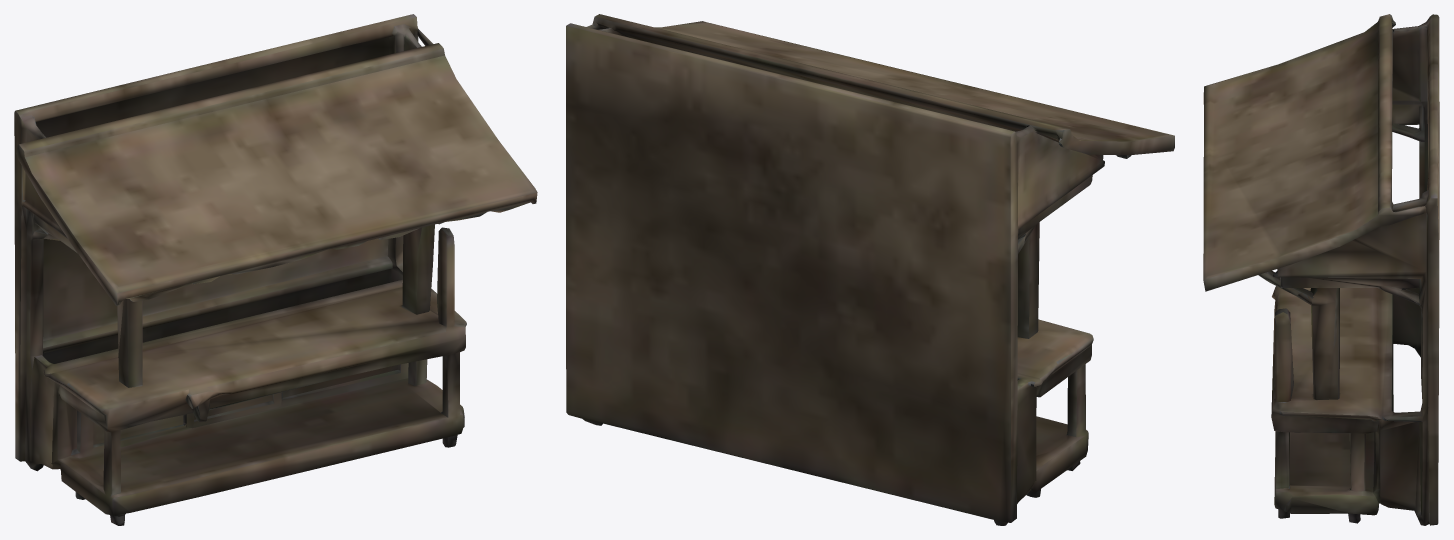
The model's file is worn-wood-market-stall-v001.glb.
3 renders of one model, left to right at view 1: azimuth 30°, elevation 25°; view 2: azimuth 150°, elevation 25°; view 3: azimuth 270°, elevation 25°, orthographic. The views are drawn at different scales.
Visible parts, largest first — view 1: worn-wood-market-stall; view 2: worn-wood-market-stall; view 3: worn-wood-market-stall.
Part boxes in pixels (box(x1,y1,x2,y2)): worn-wood-market-stall: box(14, 14, 537, 525); worn-wood-market-stall: box(566, 14, 1174, 525); worn-wood-market-stall: box(1203, 14, 1439, 525).
Bounding box in the file's own units: 3.31 × 2.73 × 1.71.
1 material, 1 textured.
